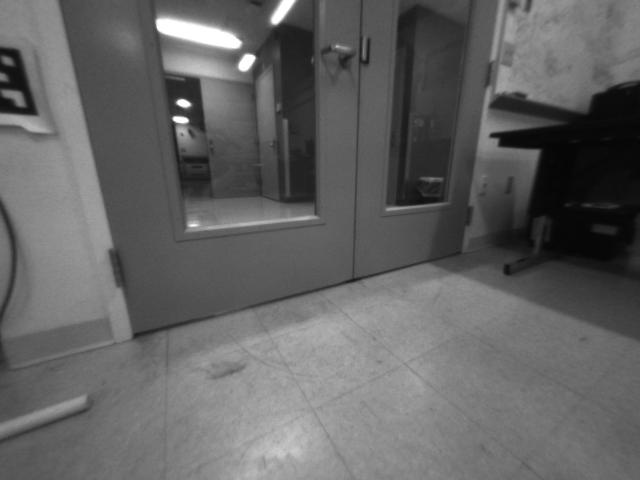door_handle: (313, 38, 355, 69)
